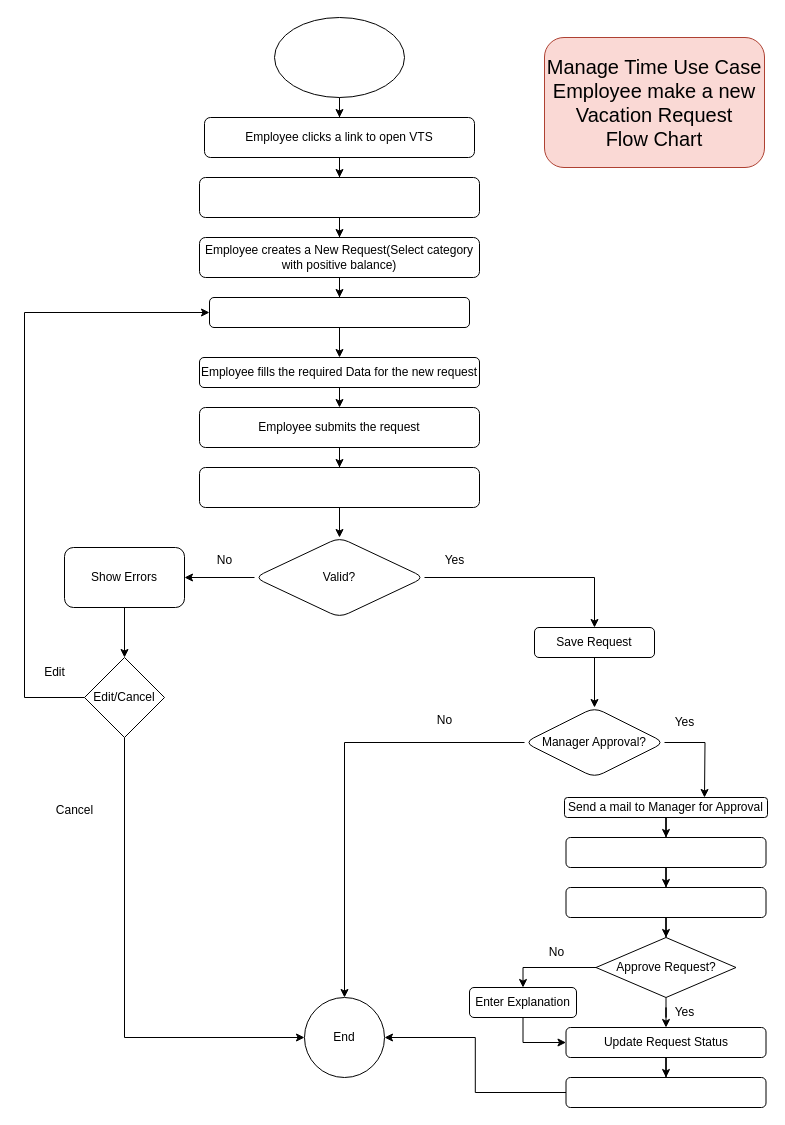
The diagram is 785 pixels wide and 1125 high, and some of its shapes have lost their labels. Each missing label, with the centre of its shape:
Manager Logs in VTS: (x=665, y=902)
Send Email to the Employee: (x=665, y=1092)
Set Request Status as pending: (x=665, y=852)
Show Dashboard with Employee status for requests and balances: (x=339, y=197)
Start: (x=339, y=57)
System checks submitted information: (x=339, y=487)
VTS opens a Request Forum: (x=339, y=312)
